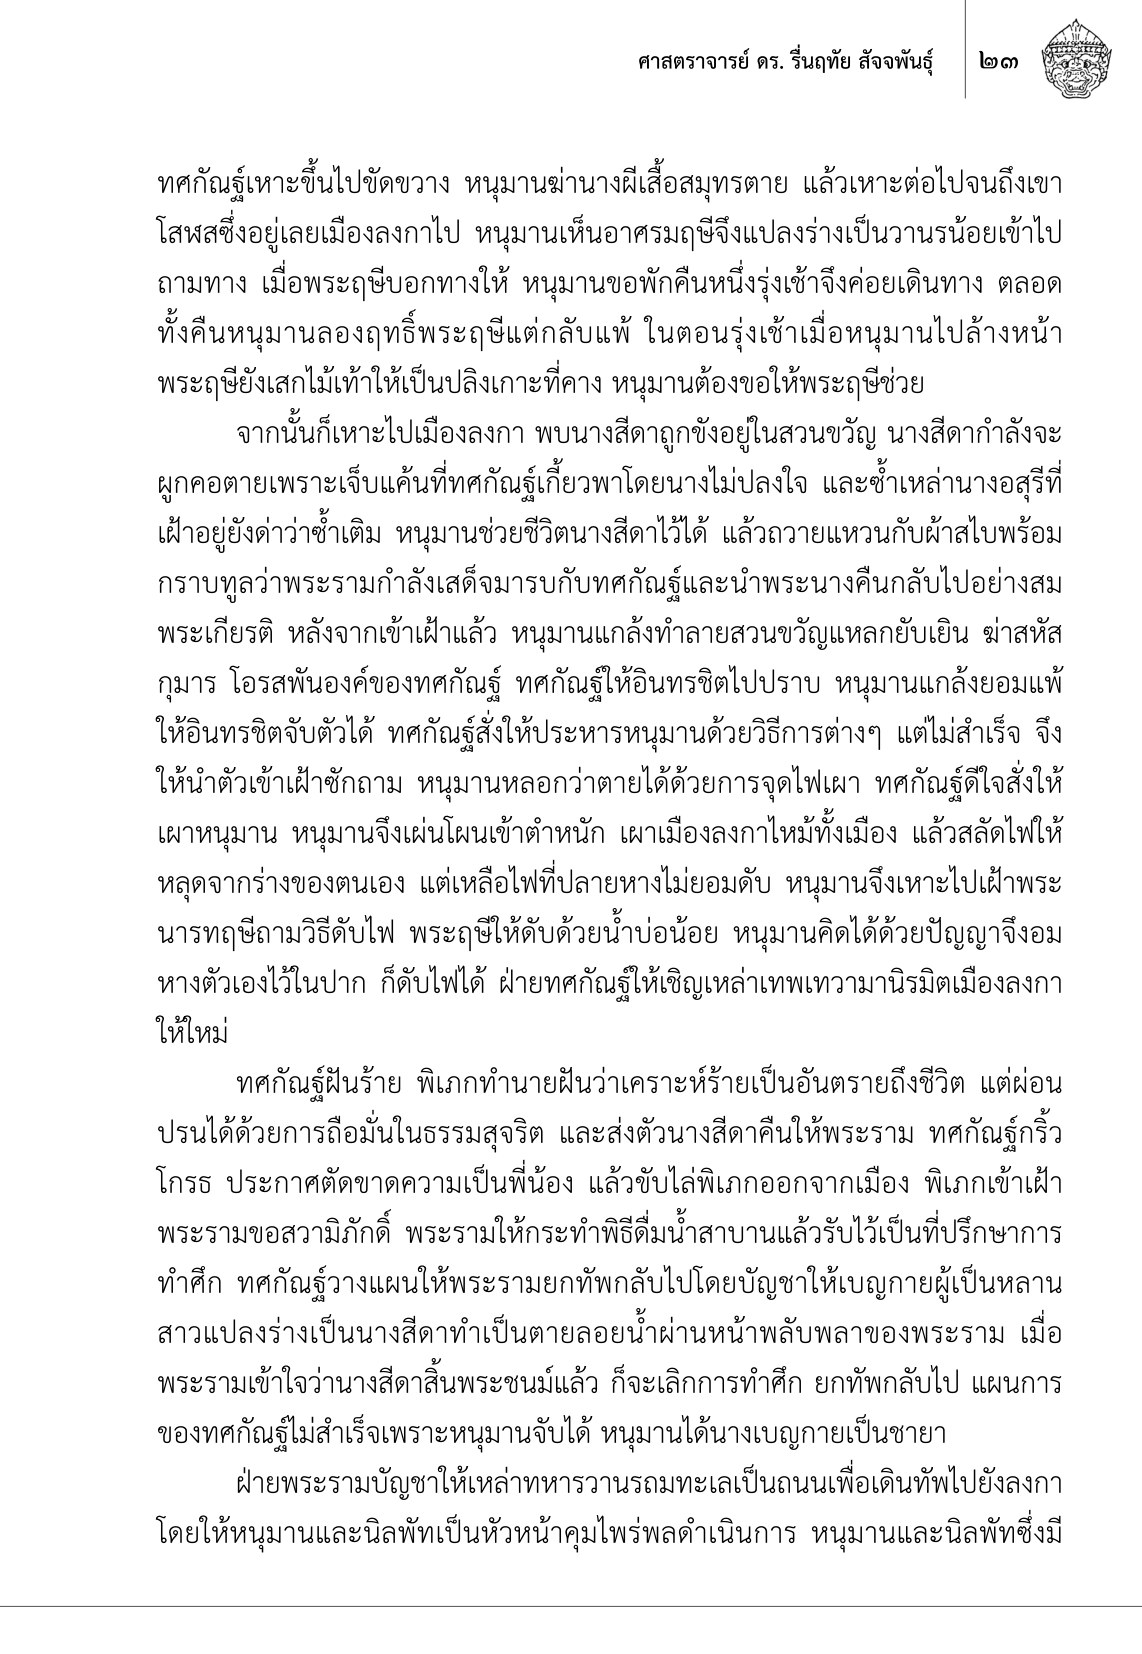thai: (153, 1054, 1067, 1455), (151, 401, 1067, 757), (150, 757, 1065, 1046), (151, 145, 1064, 406), (153, 1457, 1067, 1556), (638, 39, 938, 75), (974, 44, 1018, 75)
